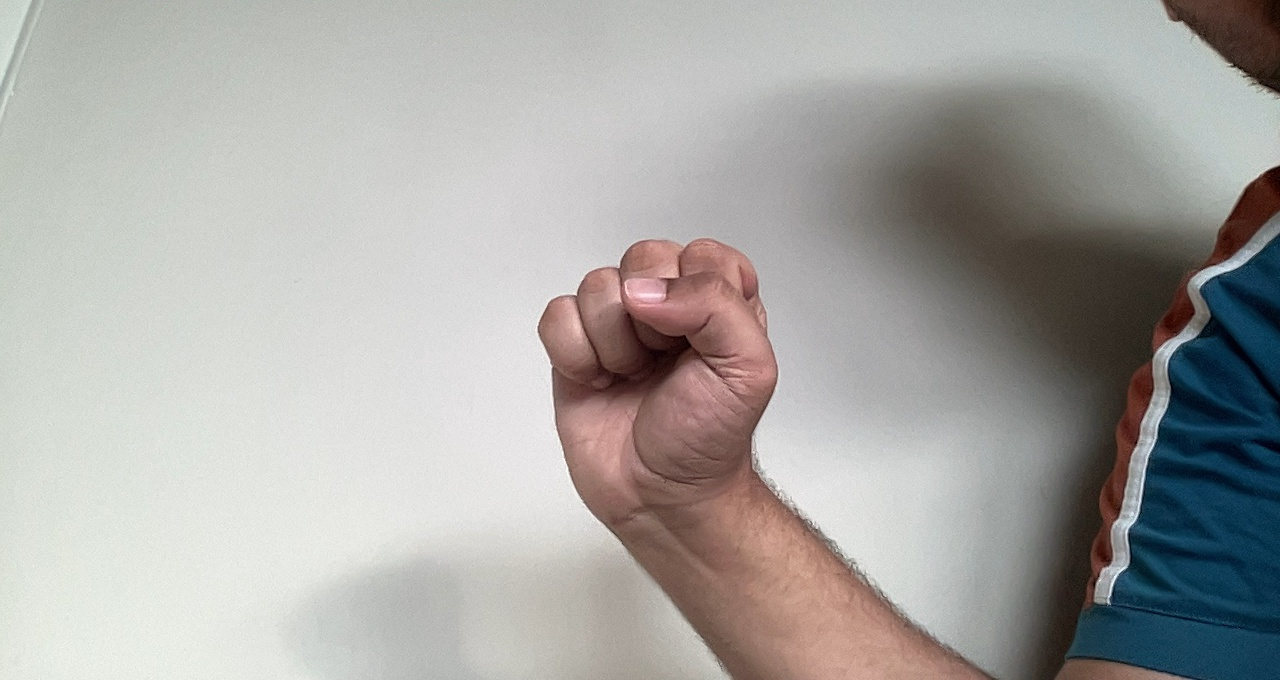closedfist: (518, 228, 795, 545)
